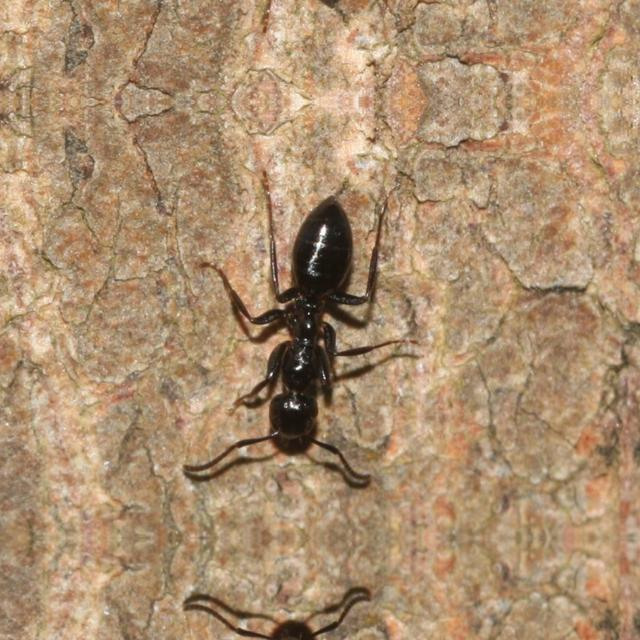Colobopsis: (184, 182, 412, 488)
